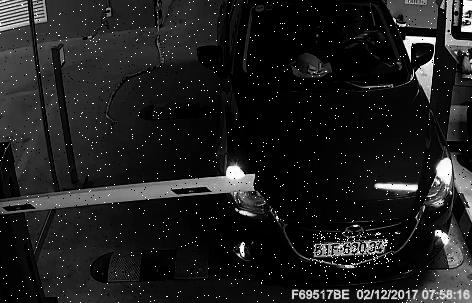License-plate: (312, 234, 396, 269)
